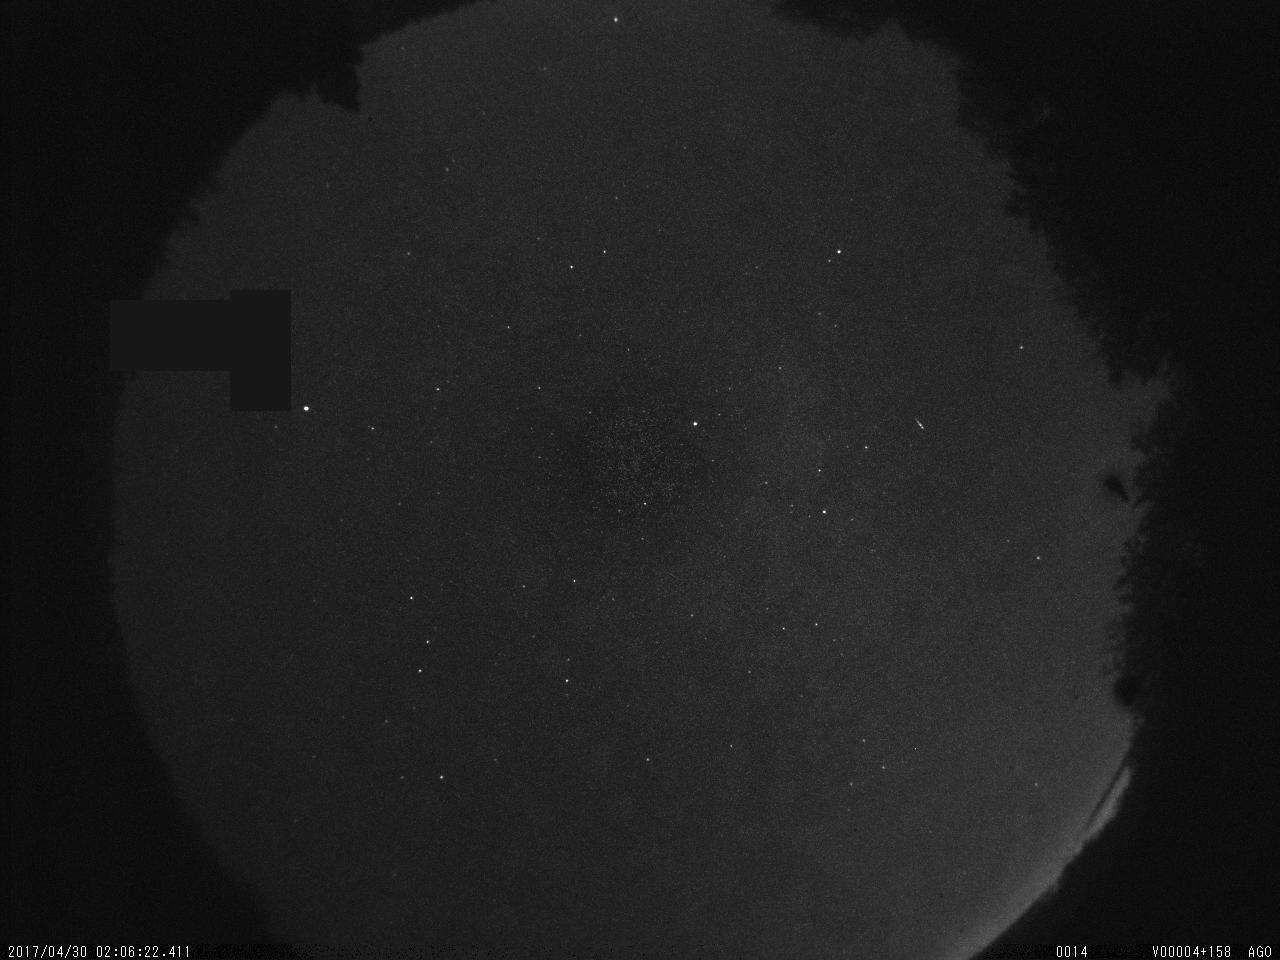meteor: (908, 408, 930, 437)
